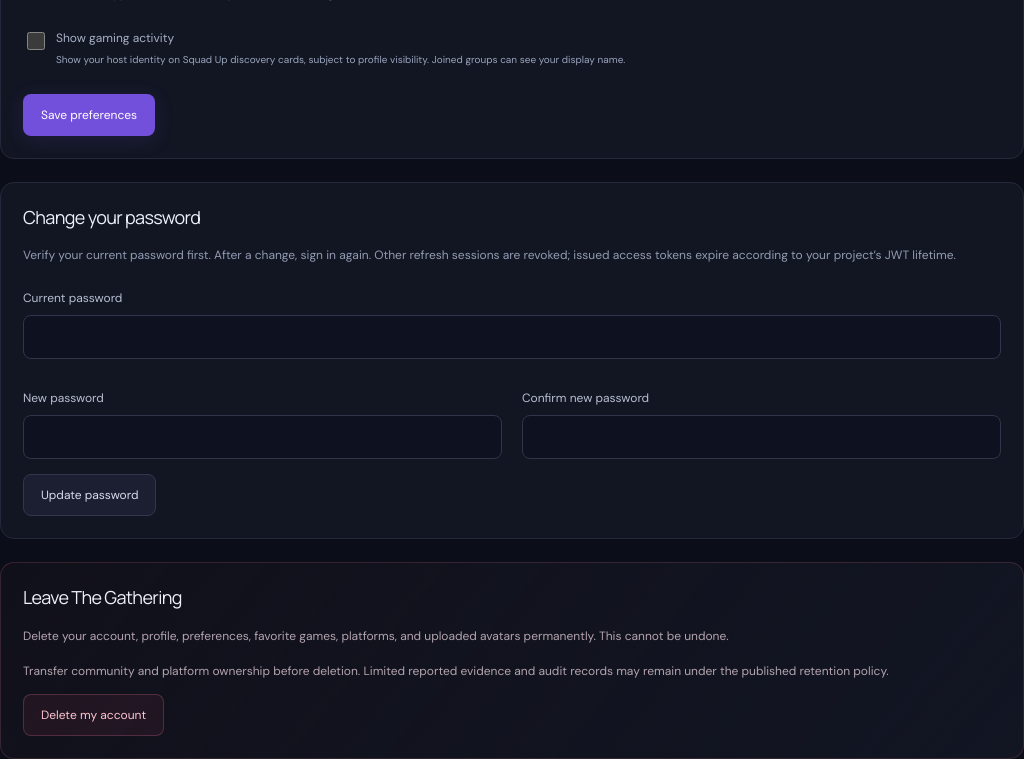
Test: Authentication and onboarding interface › deletion requires an explicit confirmation and password
The width and height of the screenshot is (1024, 759).
(page scrolled)
Click the button "Delete my account" at (94, 715), box [23,694,164,736]
(page scrolled)
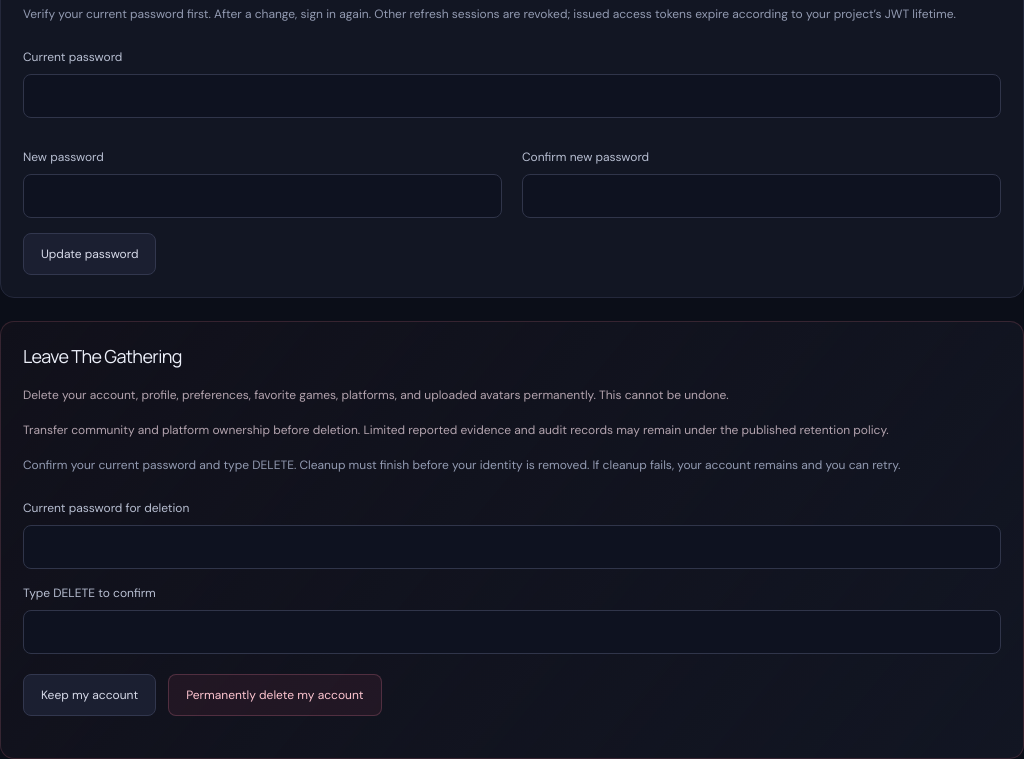
Click the button "Keep my account" at (90, 695), box [23,674,156,716]
(page scrolled)
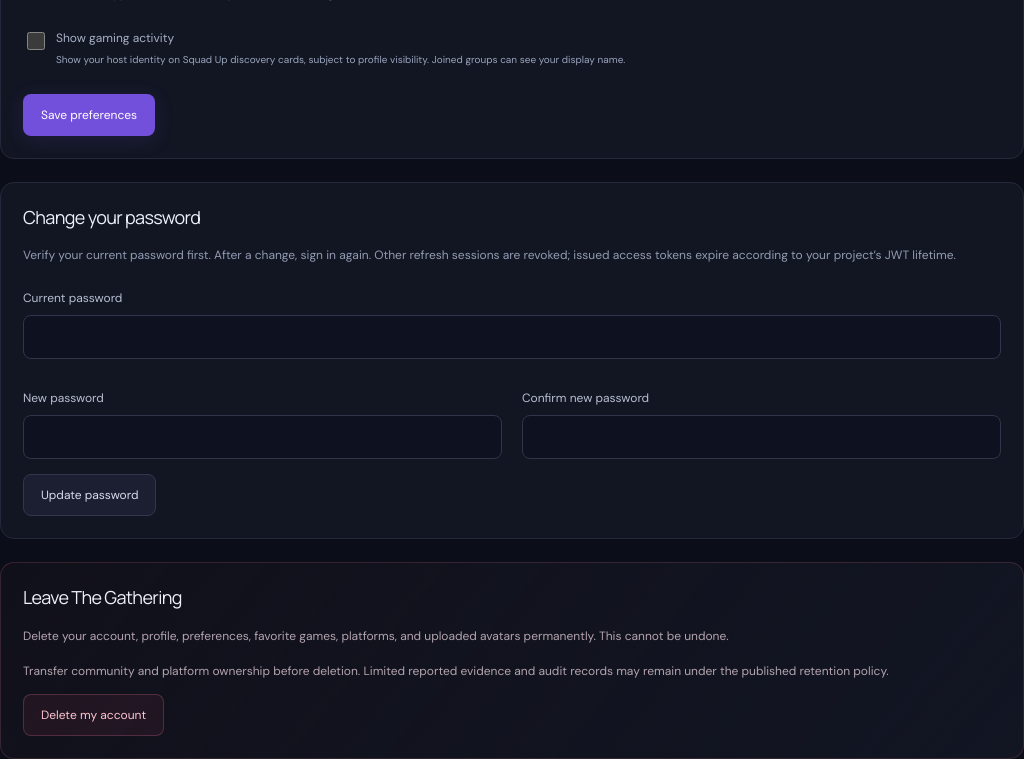
Check: the label labelled "Type DELETE to confirm" is gone
